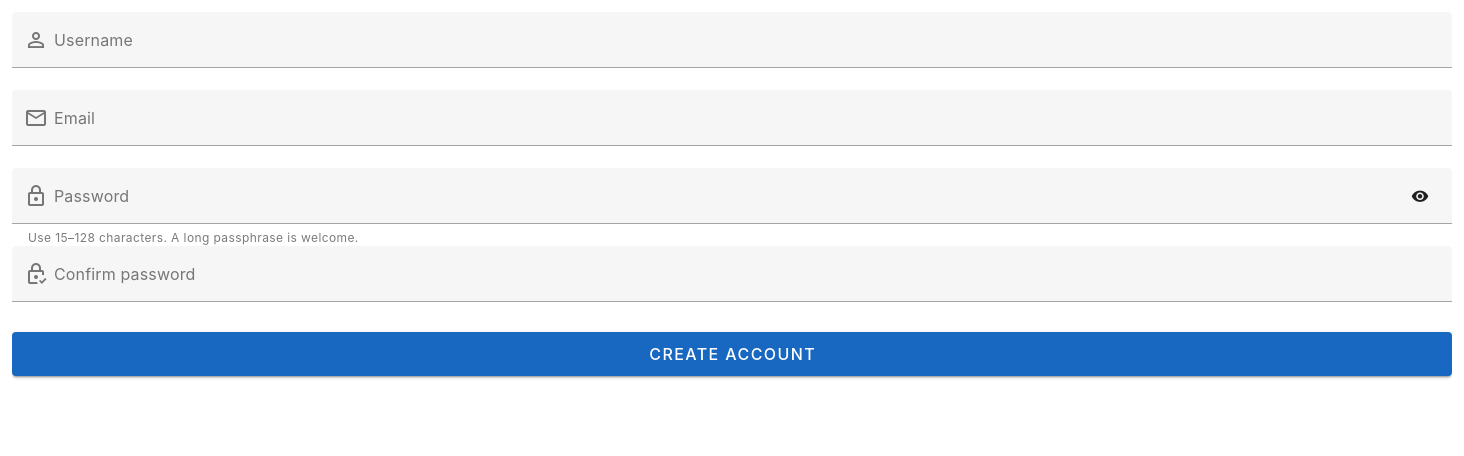
RegisterForm › tells when to try again after too many attempts (en)
Type "petr" into the field with id "username".
click(750, 40); type("petr")  # box [48,12,1452,68]
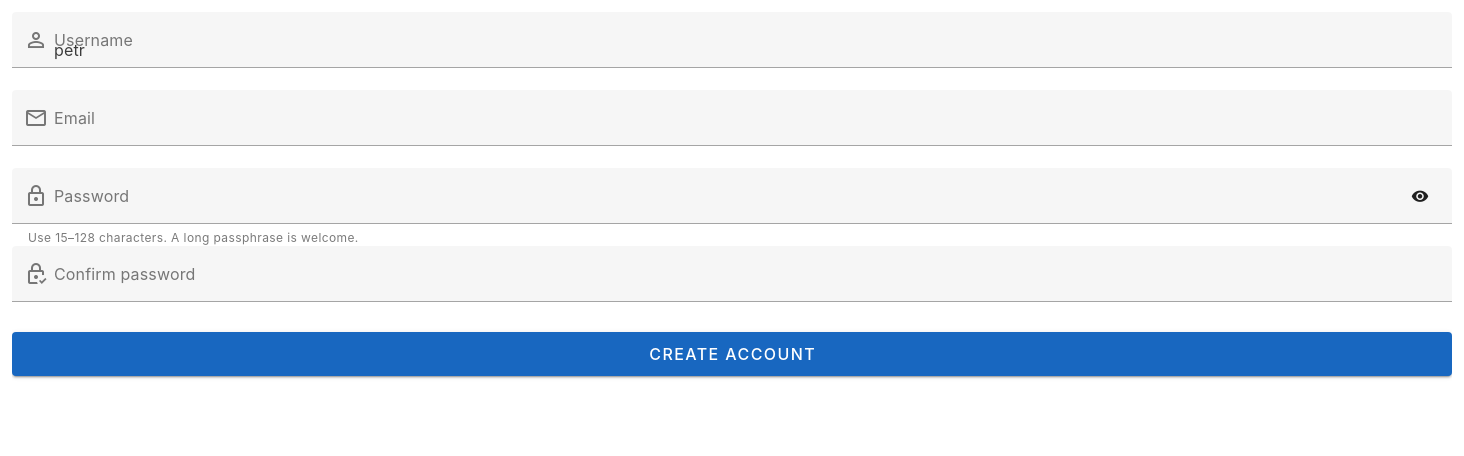
Type "petr@example.com" into the field with id "email".
click(750, 118); type("petr@example.com")  # box [48,90,1452,146]
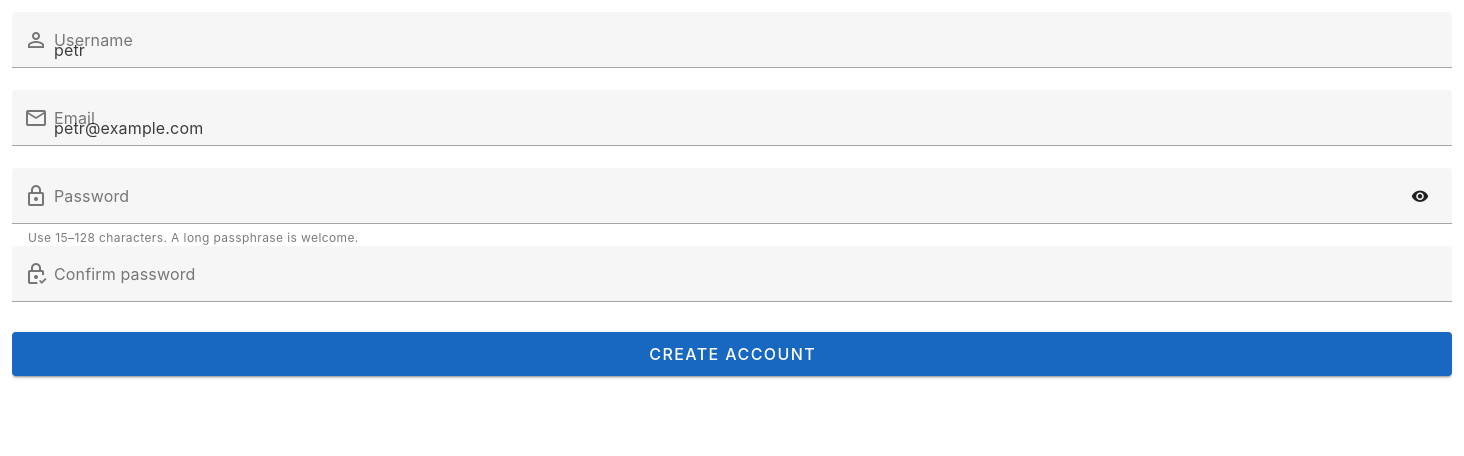
Type "Silver meadow 58!" into the password field labelled "Password".
click(724, 196); type("Silver meadow 58!")  # box [48,168,1400,224]
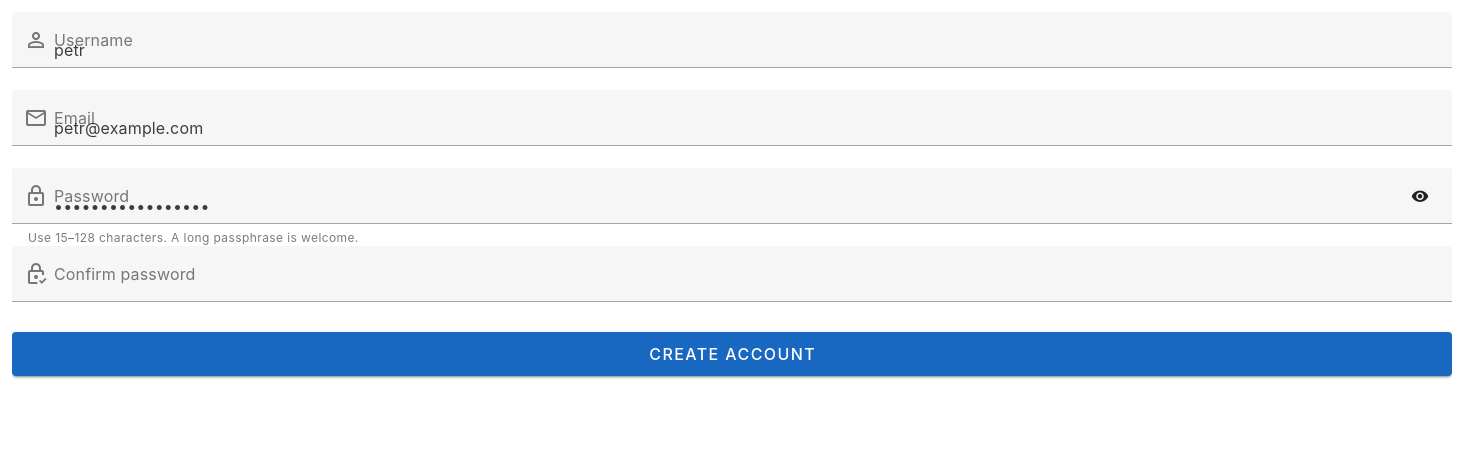
Type "Silver meadow 58!" into the password field with id "confirmPassword".
click(750, 274); type("Silver meadow 58!")  # box [48,246,1452,302]
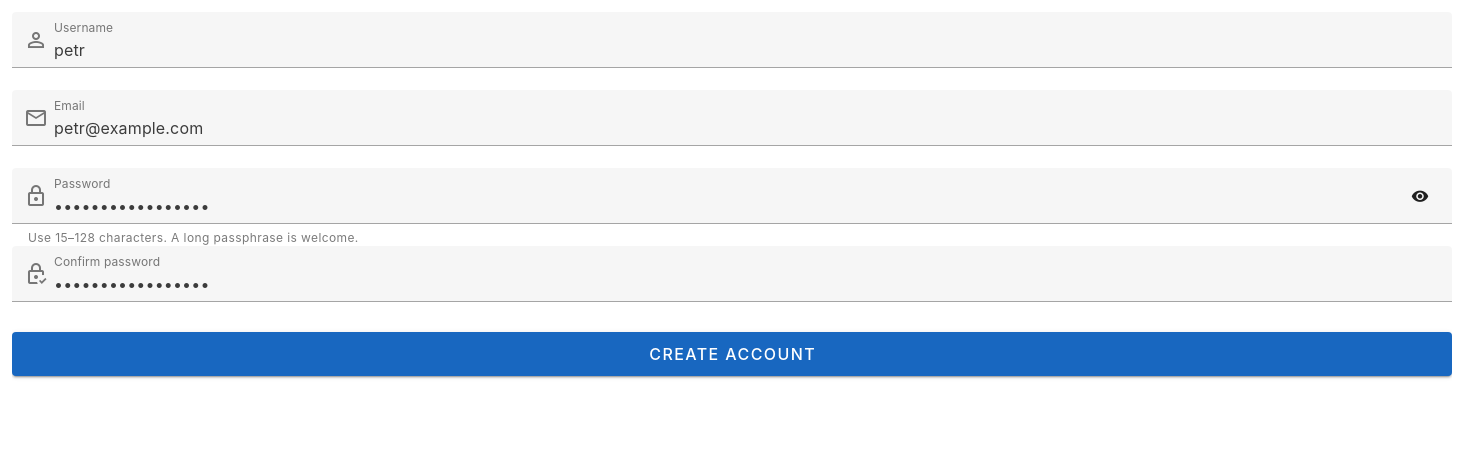
Submit the form
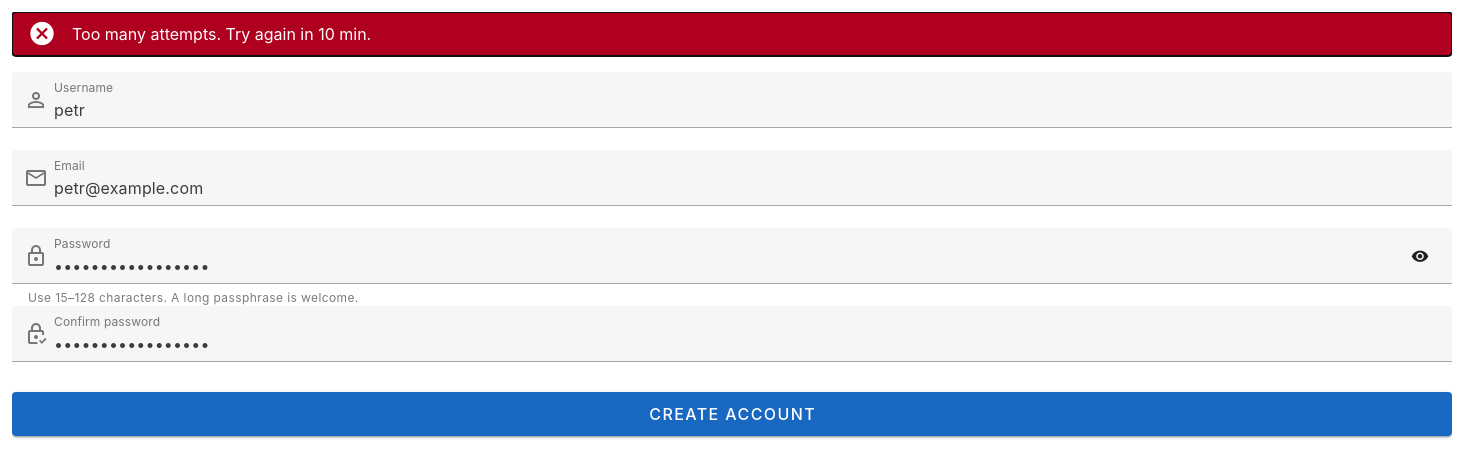
Now the message "Too many attempts. Try again in 10 min." is shown, box [12,12,1452,56]
